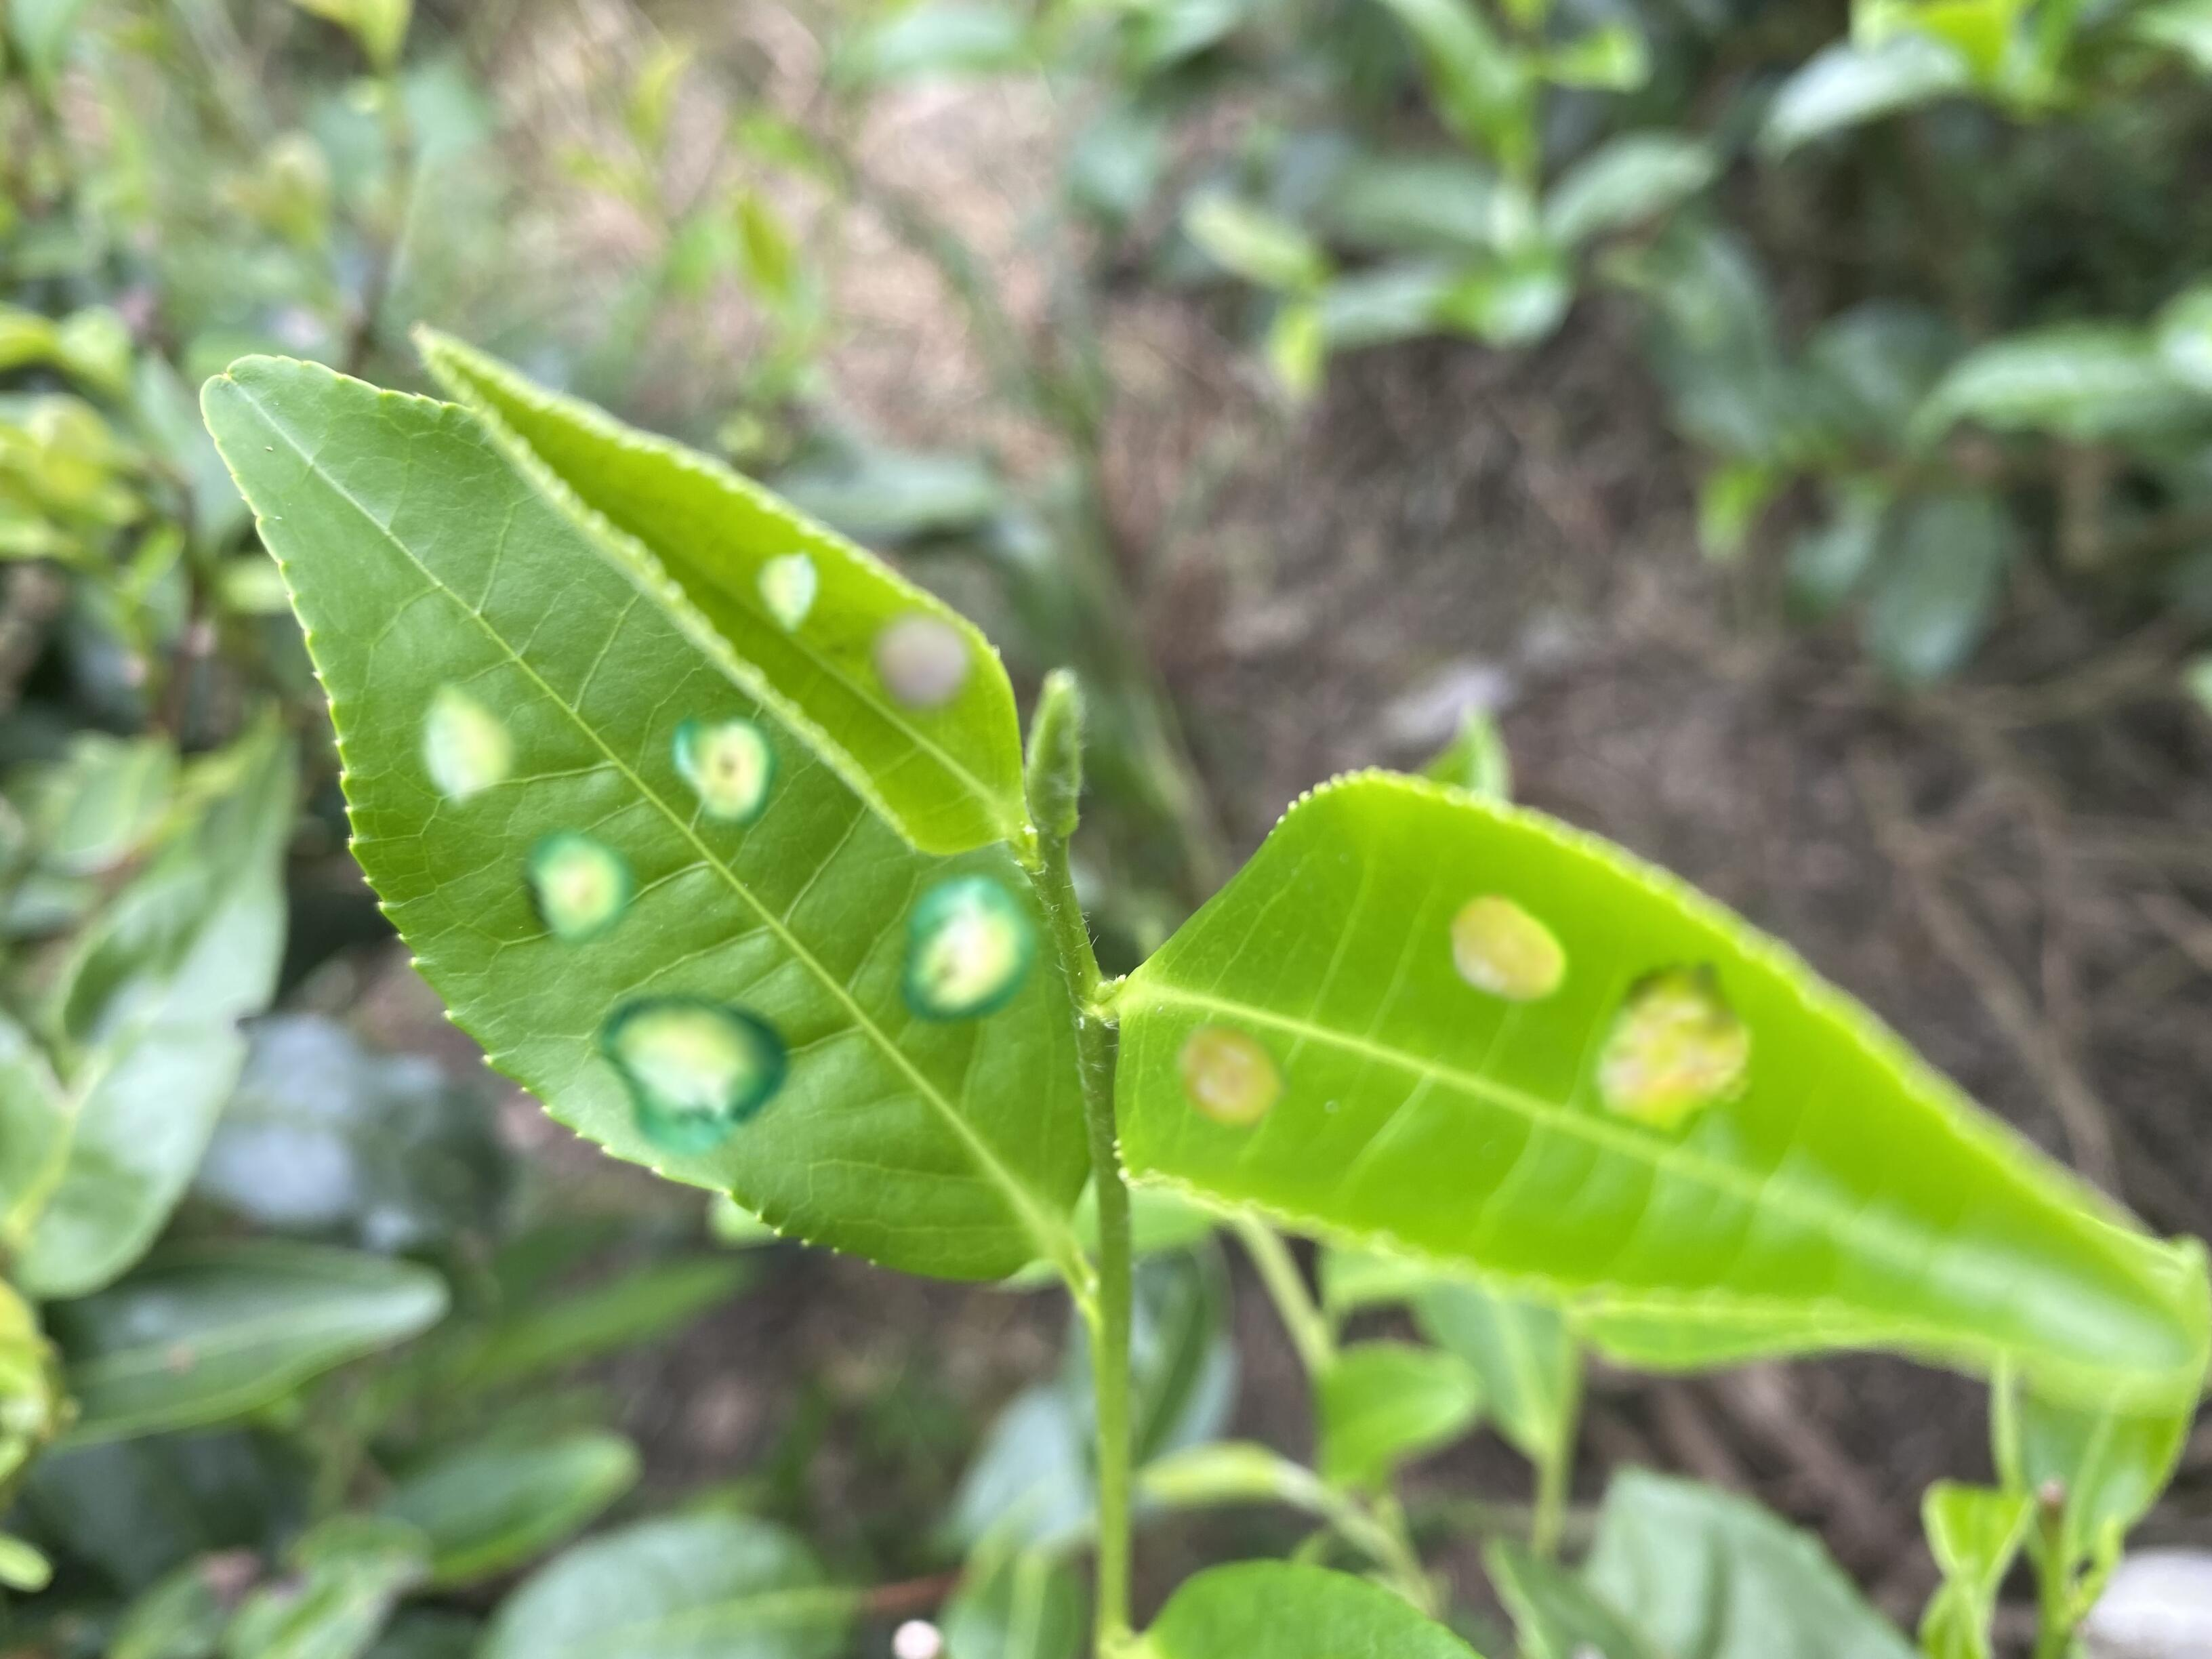chabing_high: (200, 350, 1096, 1281), (1111, 767, 2209, 1399), (411, 324, 1036, 856)
